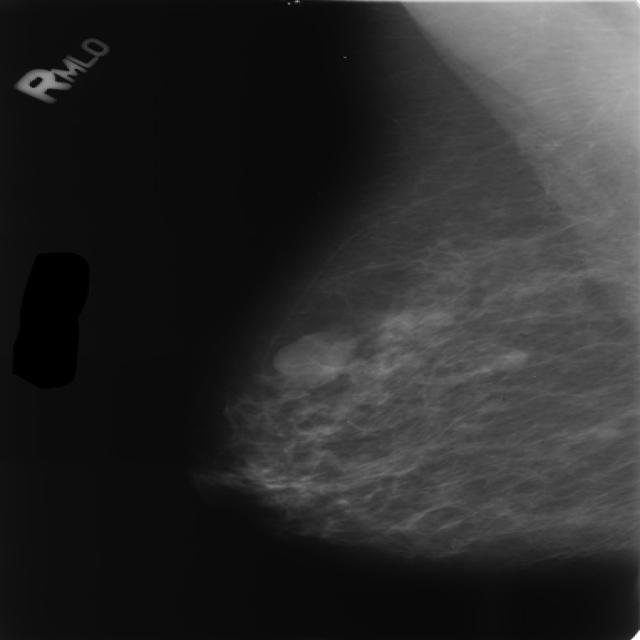tumour: (488, 348, 526, 372)
